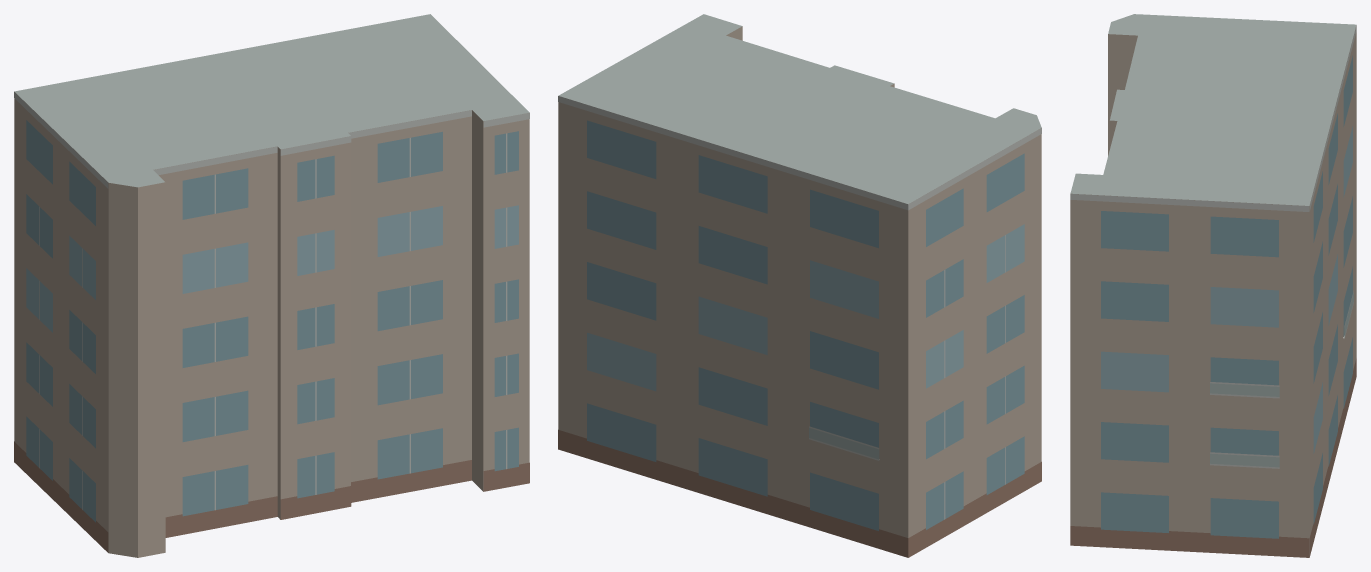
The model's file is survey-upis-32753340.glb.
3 views of the same model, side by side, from view 1: azimuth 30°, elevation 25°; view 2: azimuth 150°, elevation 25°; view 3: azimuth 270°, elevation 25° (orthographic). The views are drawn at different scales.
Parts seen in each view (by area): view 1: survey-upis-32753340.tmp; view 2: survey-upis-32753340.tmp; view 3: survey-upis-32753340.tmp.
Boxes of the visible parts, left/top/right/bottom form: survey-upis-32753340.tmp: left=14, top=14, right=529, bottom=557; survey-upis-32753340.tmp: left=558, top=14, right=1041, bottom=557; survey-upis-32753340.tmp: left=1070, top=14, right=1356, bottom=557.
Size of the model in its own units: 16.39 by 14 by 10.33.
